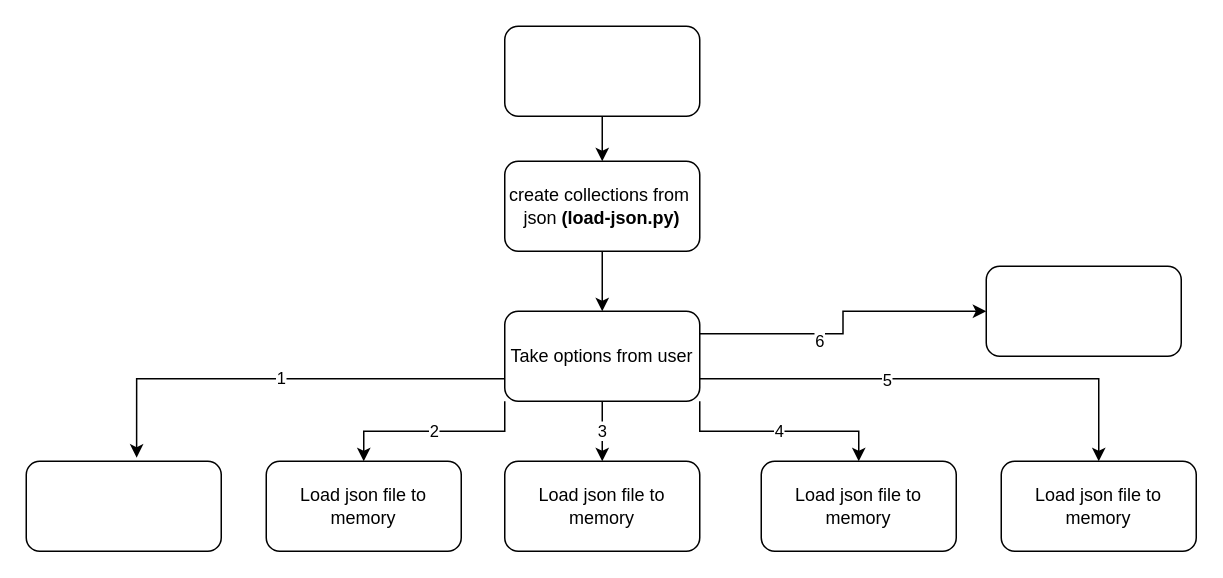
This 1223x578 diagram has some shape labels left out. The box of each missing label's shape, as (x1, y1, x2, y2) in pixels:
Add Cast: (25, 460, 221, 551)
Convert tsv to json (tsv-2-json.py): (503, 25, 700, 116)
Exit: (985, 265, 1181, 356)
